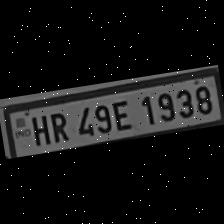1: (132, 92, 156, 128)
3: (172, 86, 195, 119)
4: (69, 102, 97, 140)
8: (190, 81, 214, 117)
9: (152, 88, 178, 124), (89, 100, 113, 136)
E: (108, 96, 135, 133)
H: (27, 111, 51, 148)
R: (44, 108, 71, 145)
